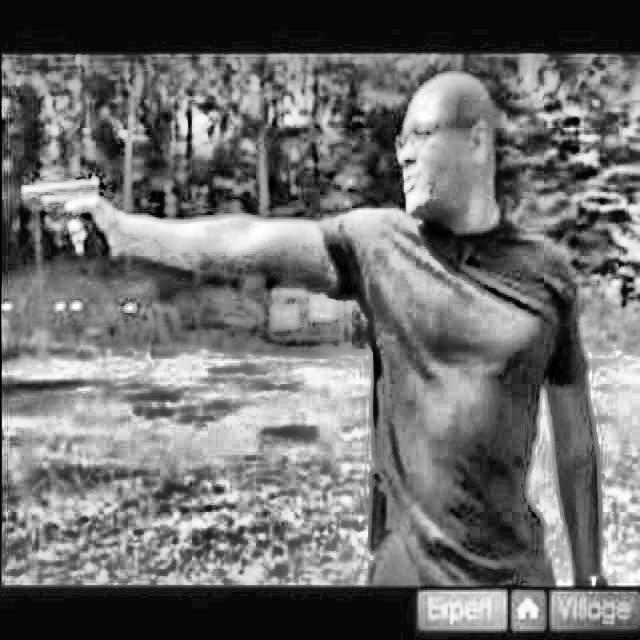pistol: (15, 168, 130, 284)
